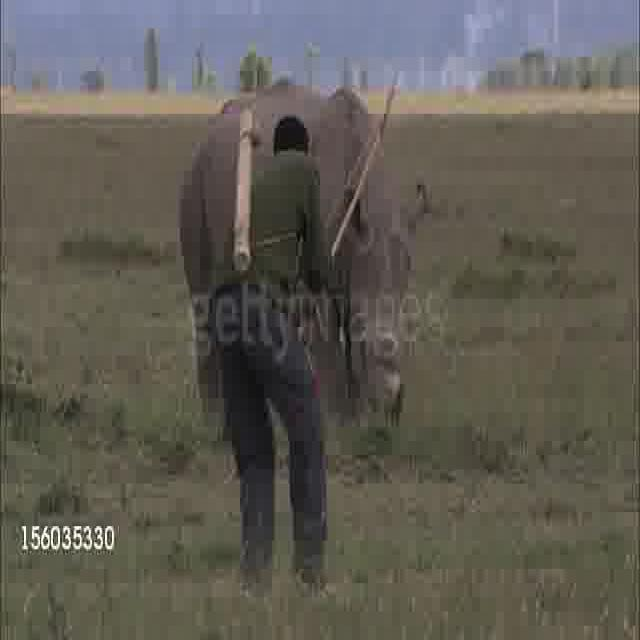poacher: (223, 218, 375, 588)
weapon: (290, 199, 336, 311)
